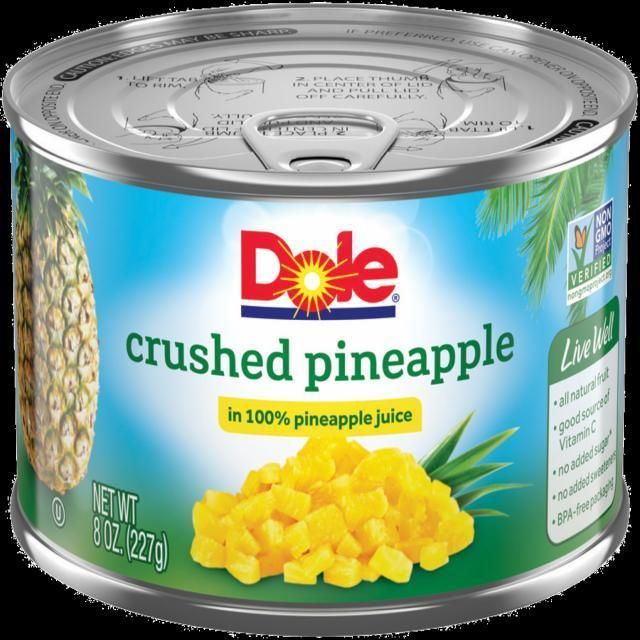metal-can: (1, 4, 636, 638)
